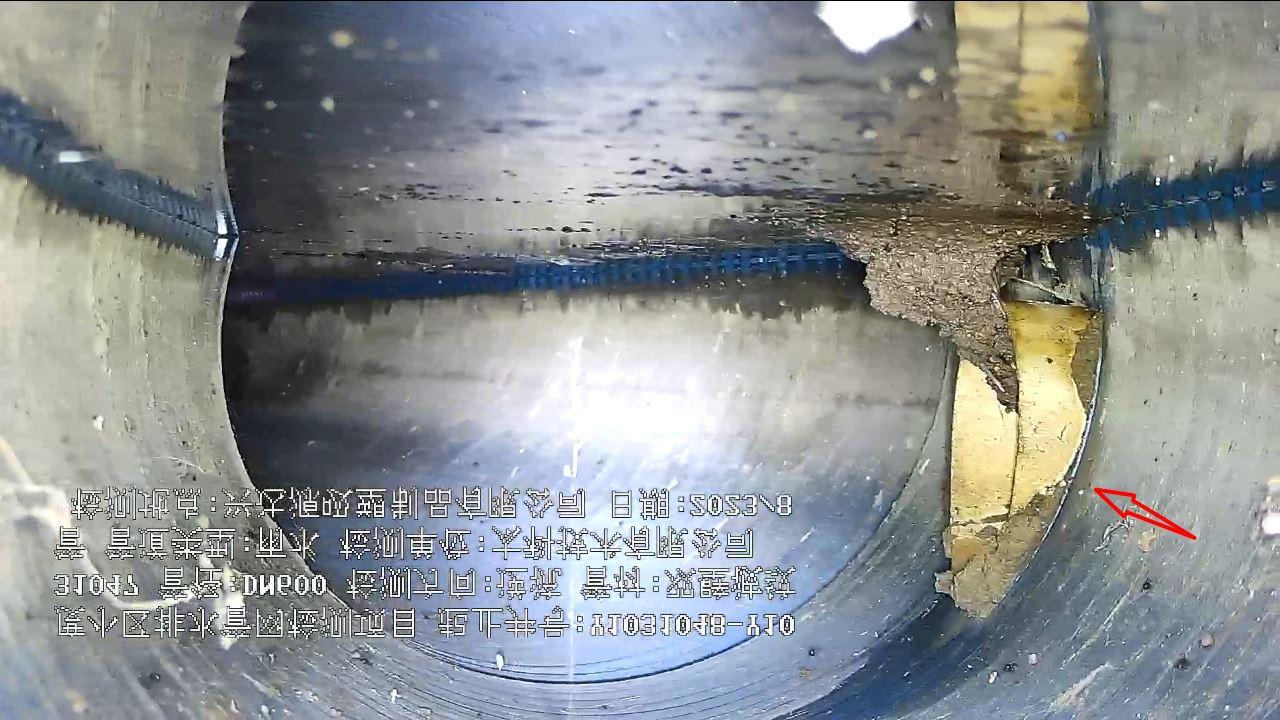ZGAJ: (935, 301, 1100, 617)
